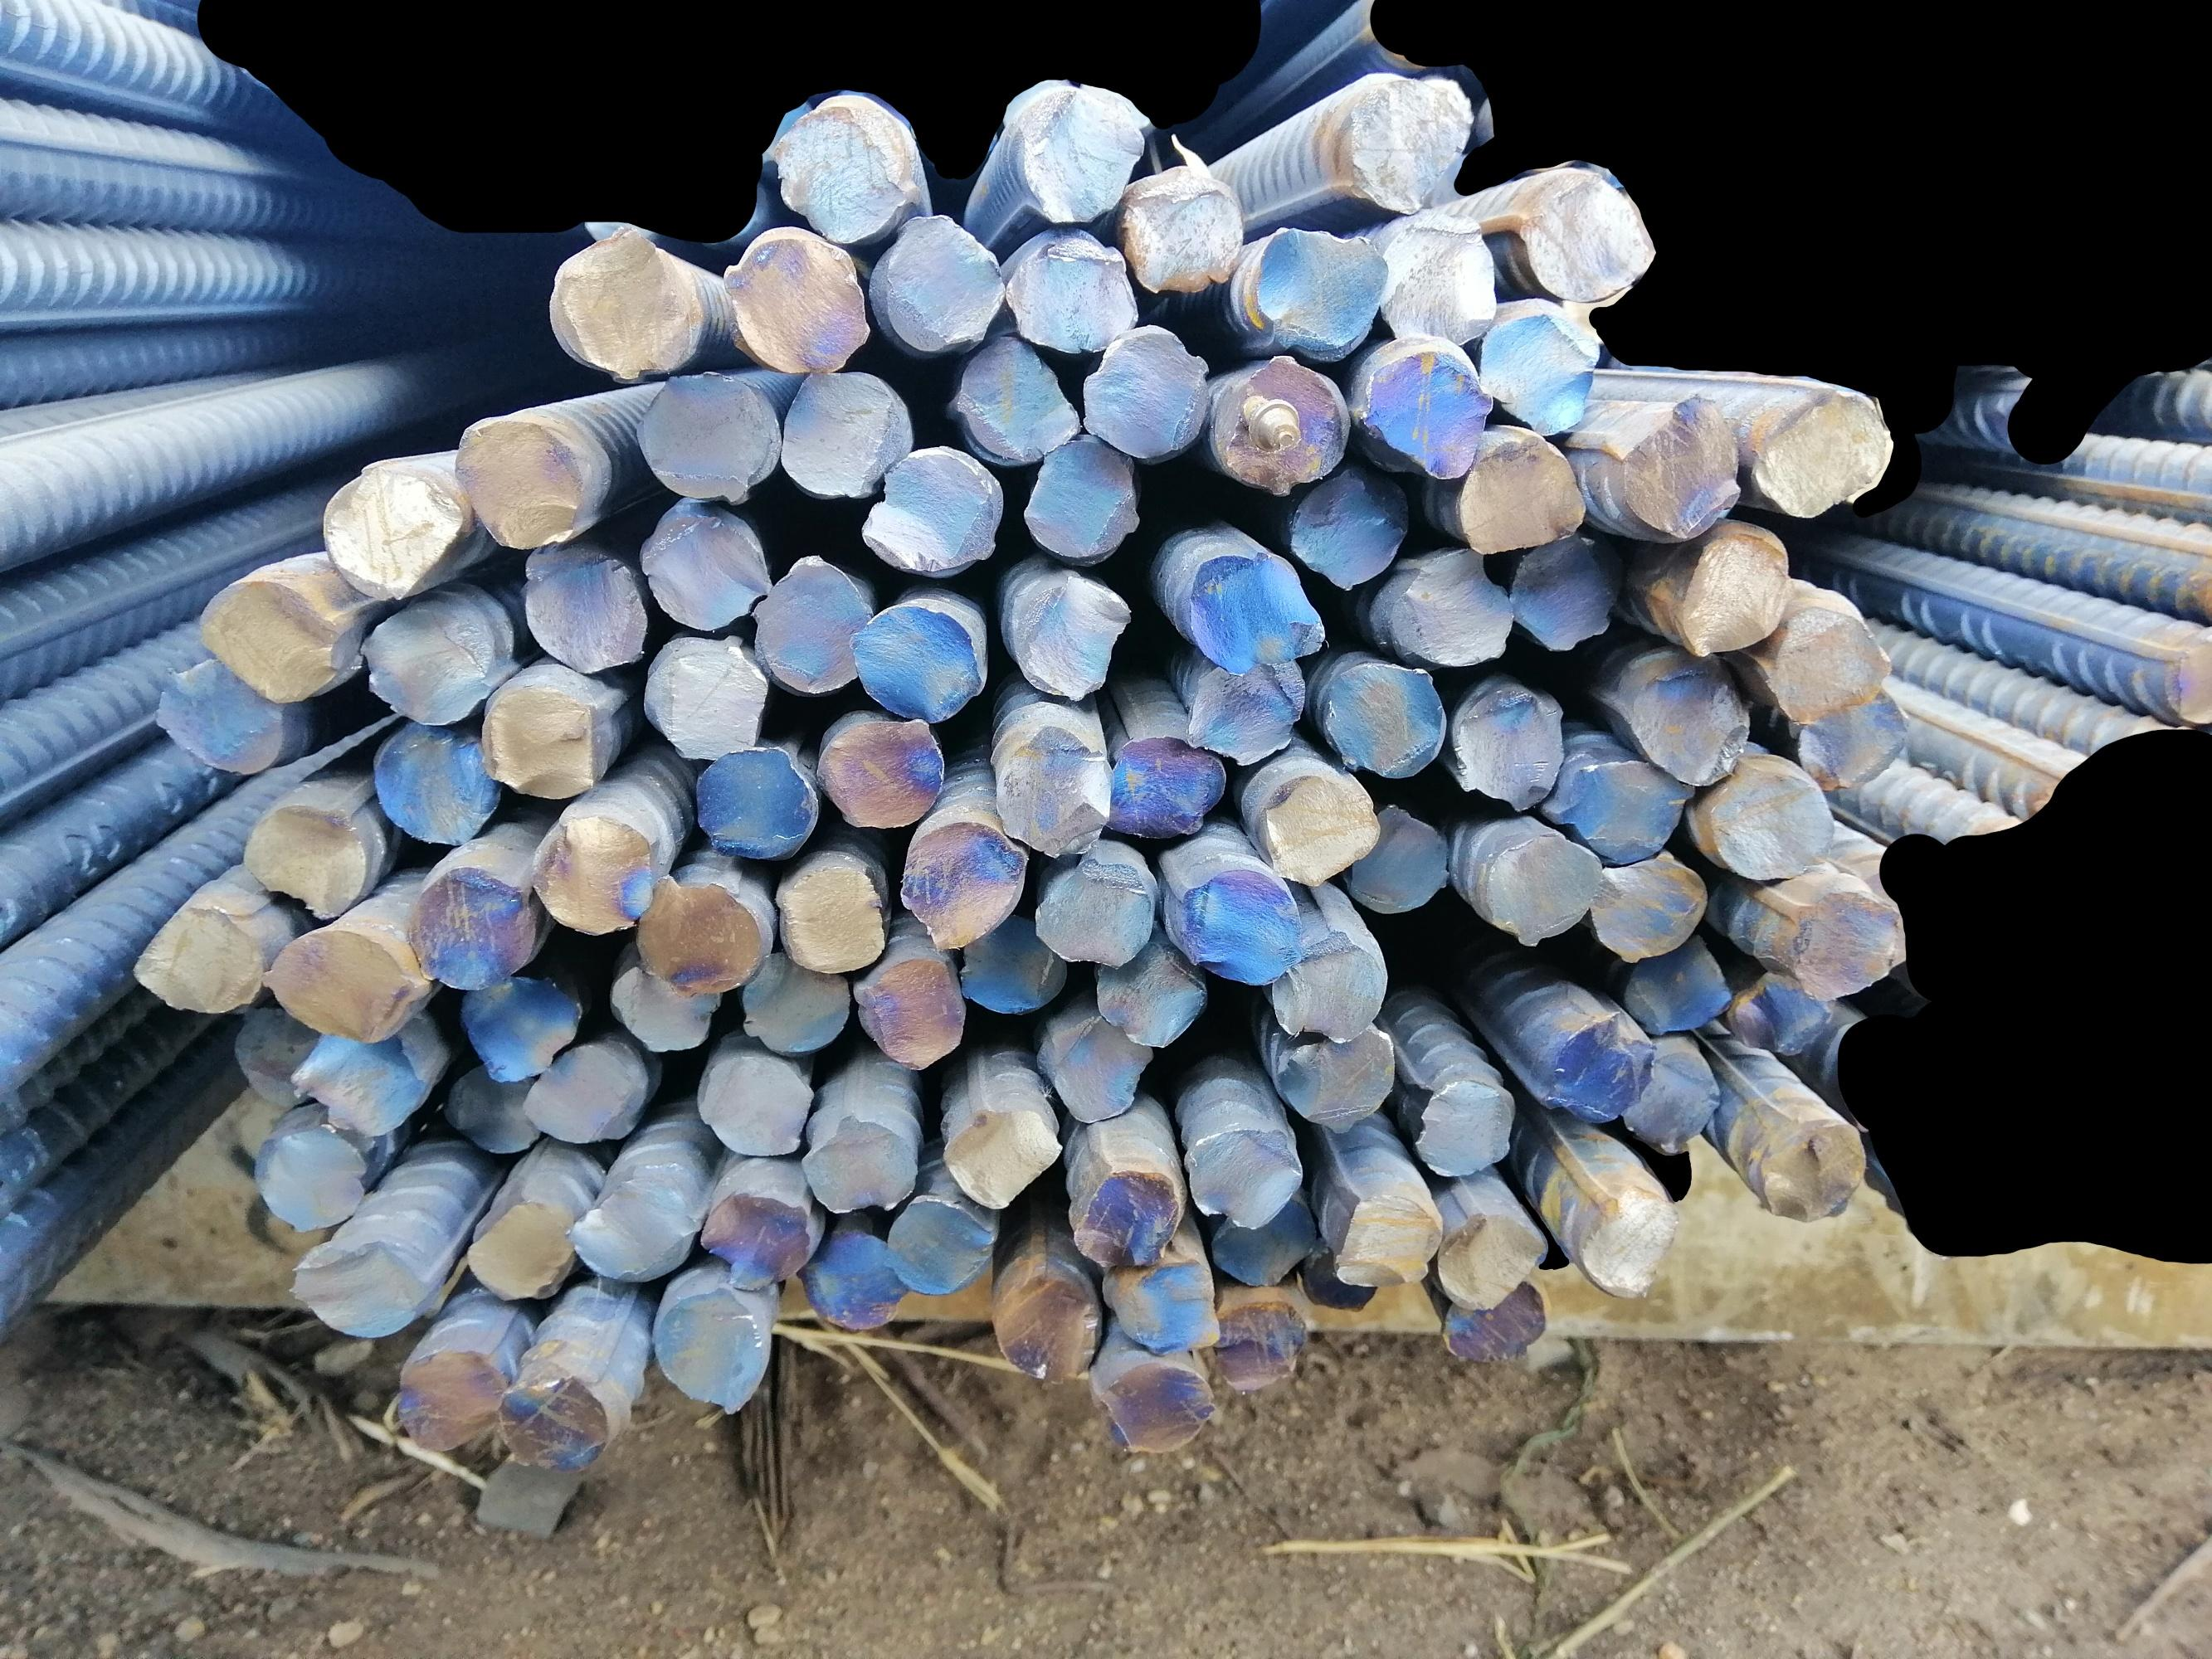bar: (546, 234, 694, 378), (720, 230, 868, 375), (1747, 383, 1902, 519), (195, 570, 347, 708), (772, 98, 913, 244), (509, 530, 650, 674), (852, 441, 1002, 575), (354, 592, 500, 728), (1175, 547, 1328, 676), (322, 464, 465, 601), (634, 369, 779, 505), (1210, 350, 1347, 488), (450, 420, 591, 552), (1616, 390, 1745, 535), (1016, 87, 1147, 228), (753, 547, 873, 699), (263, 925, 420, 1040), (1248, 220, 1384, 352), (1361, 343, 1492, 481), (999, 228, 1140, 356), (640, 504, 776, 634), (953, 328, 1084, 464), (1445, 429, 1584, 556), (879, 209, 1002, 352), (1075, 328, 1210, 457), (1517, 173, 1651, 300), (366, 720, 504, 843), (1347, 75, 1471, 213), (126, 899, 270, 1016), (1766, 601, 1896, 730), (1006, 568, 1131, 702), (847, 599, 978, 727), (633, 868, 765, 993), (781, 366, 906, 498), (899, 819, 1021, 955), (408, 868, 537, 993), (1703, 756, 1832, 882), (1377, 213, 1499, 345), (242, 805, 378, 924), (1288, 462, 1414, 589), (1675, 526, 1797, 657), (153, 657, 286, 777), (1555, 751, 1693, 866), (1018, 439, 1145, 563), (1478, 824, 1605, 946), (1032, 849, 1161, 969), (992, 723, 1107, 857), (1175, 861, 1299, 985), (289, 1026, 429, 1136), (687, 742, 814, 863), (1318, 660, 1445, 781), (1386, 552, 1515, 671), (1630, 655, 1747, 786), (1124, 162, 1239, 295), (1478, 308, 1598, 434), (1504, 533, 1632, 652), (821, 709, 943, 831), (528, 819, 655, 936), (655, 1284, 770, 1413), (643, 633, 760, 758), (451, 967, 579, 1080), (1785, 885, 1907, 1002), (288, 1234, 418, 1342), (1265, 931, 1384, 1049), (730, 941, 851, 1058), (1799, 667, 1914, 789), (1257, 772, 1375, 889), (1590, 849, 1710, 964), (1039, 1007, 1154, 1126), (852, 955, 967, 1073), (1096, 735, 1224, 842), (479, 685, 598, 798), (1569, 1180, 1679, 1302), (1189, 653, 1307, 765), (1459, 674, 1557, 809), (1279, 1021, 1394, 1134), (994, 1265, 1100, 1387), (519, 1039, 641, 1145), (802, 1211, 906, 1335), (251, 1121, 364, 1234), (774, 863, 887, 976), (943, 1101, 1062, 1209), (1096, 1361, 1227, 1459), (1093, 941, 1208, 1051), (1408, 1068, 1518, 1183), (1187, 1122, 1306, 1229), (1433, 1208, 1550, 1314), (1107, 1258, 1227, 1361), (567, 1188, 692, 1286), (953, 915, 1070, 1019), (1203, 1188, 1320, 1293), (488, 1375, 612, 1473), (1759, 1110, 1867, 1222), (396, 1345, 507, 1452), (879, 1192, 990, 1297), (1550, 1011, 1654, 1122), (699, 1054, 812, 1157), (1621, 934, 1734, 1037), (1330, 1187, 1443, 1290), (1623, 1042, 1722, 1159), (462, 1199, 573, 1302), (701, 1187, 812, 1290), (1072, 1166, 1182, 1269), (802, 1114, 915, 1213), (608, 958, 720, 1054), (225, 1000, 319, 1114), (1353, 807, 1452, 911), (443, 1056, 540, 1157), (1208, 1297, 1306, 1391), (1443, 1286, 1553, 1364), (1733, 971, 1832, 1056), (1302, 1243, 1381, 1316)
